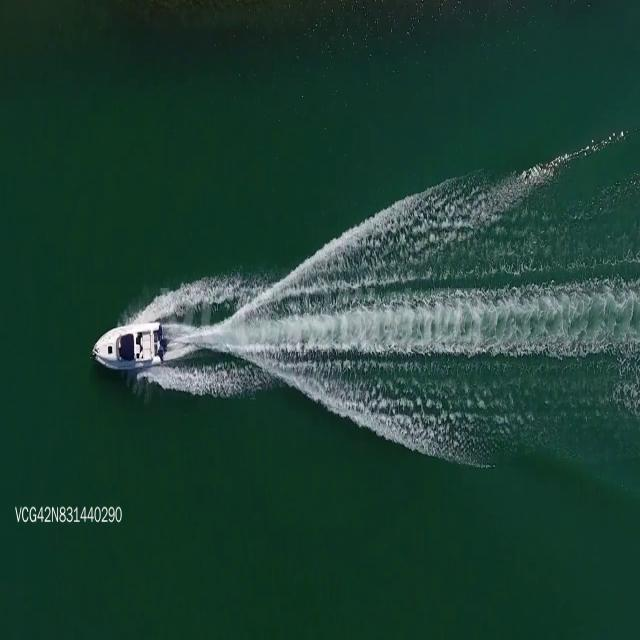houseboat: (92, 315, 163, 372)
